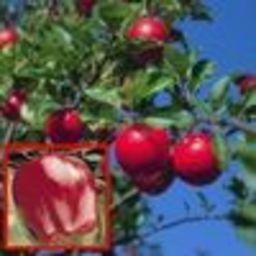apple: (11, 156, 98, 248), (115, 125, 169, 177), (170, 128, 221, 183), (42, 106, 83, 142), (126, 14, 168, 41)
